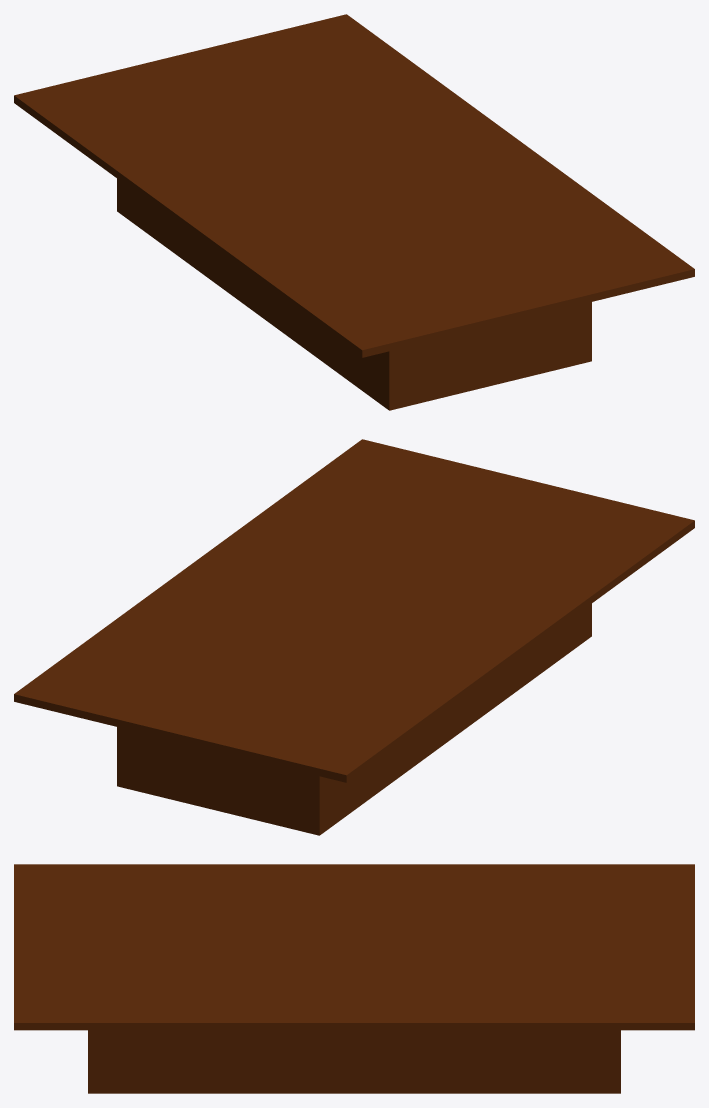
Rendered from big-desk.fbx.
3 renders of one model, top to bottom at view 1: azimuth 30°, elevation 25°; view 2: azimuth 150°, elevation 25°; view 3: azimuth 270°, elevation 25°, orthographic. The views are drawn at different scales.
Parts seen in each view (by area): view 1: desk; view 2: desk; view 3: desk.
Boxes of the visible parts, left/top/right/bottom form: desk: left=14, top=14, right=694, bottom=410; desk: left=14, top=439, right=694, bottom=835; desk: left=14, top=864, right=694, bottom=1093.
Size of the model in its own units: 842 by 252 by 1527.
